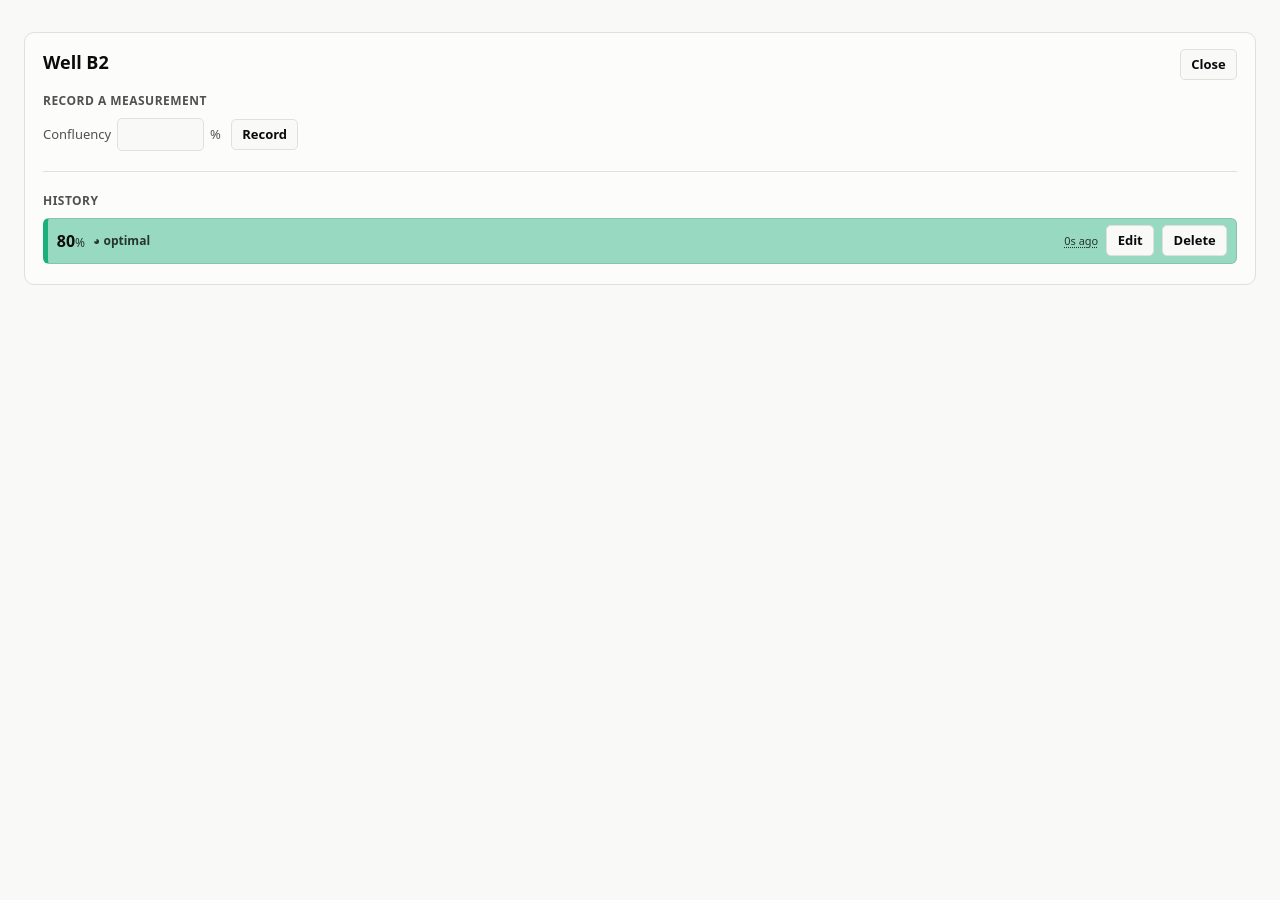
Scenario: WellPanel — deleting a measurement › falls back to the empty state when the last reading goes
Expected: the text "80" is shown, [57,230,75,252]
Click the button with aria-label "Delete reading". click: (1195, 241)
box: [1162,225,1227,256]
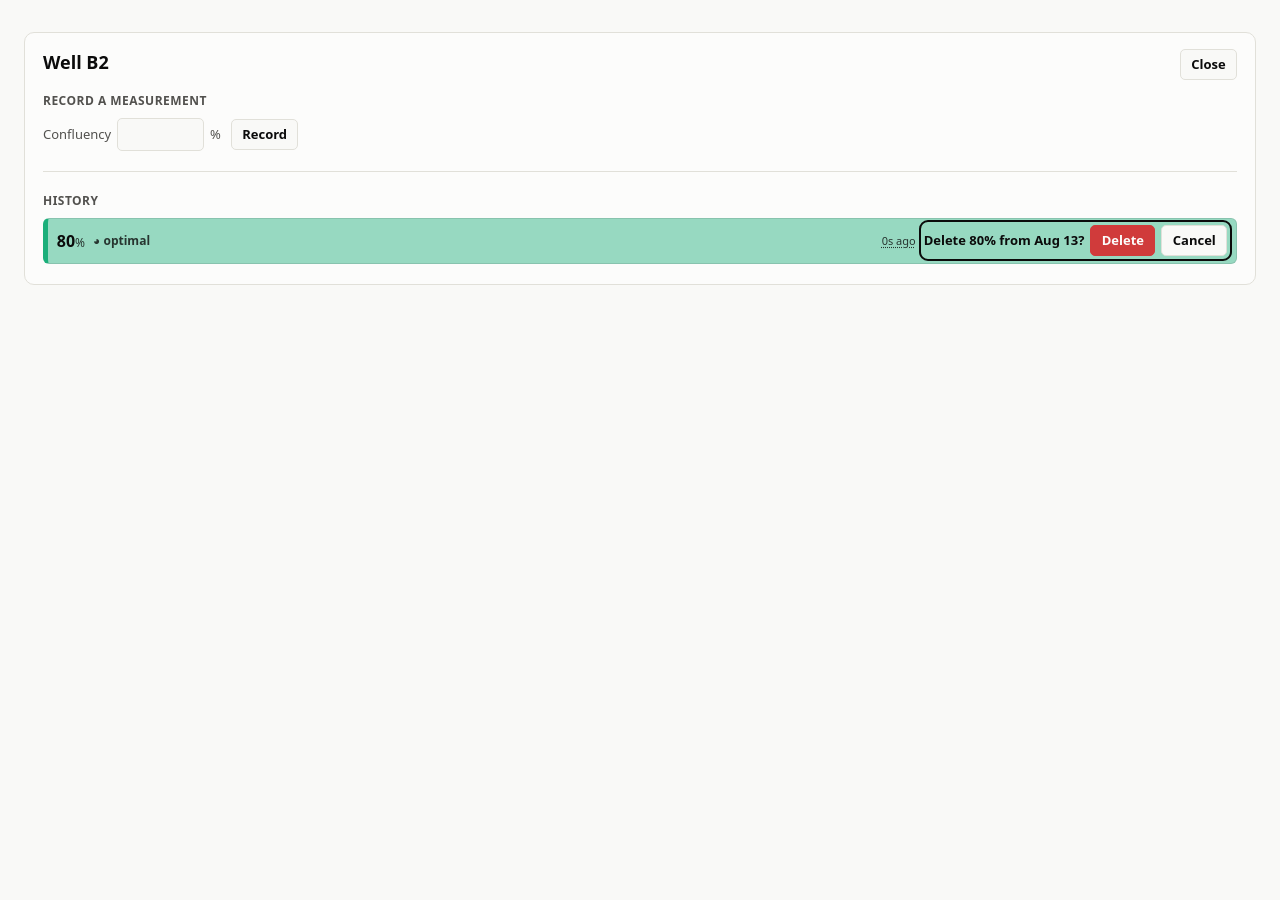
Click the button "Delete". click: (1123, 241)
box: [1090,225,1155,256]
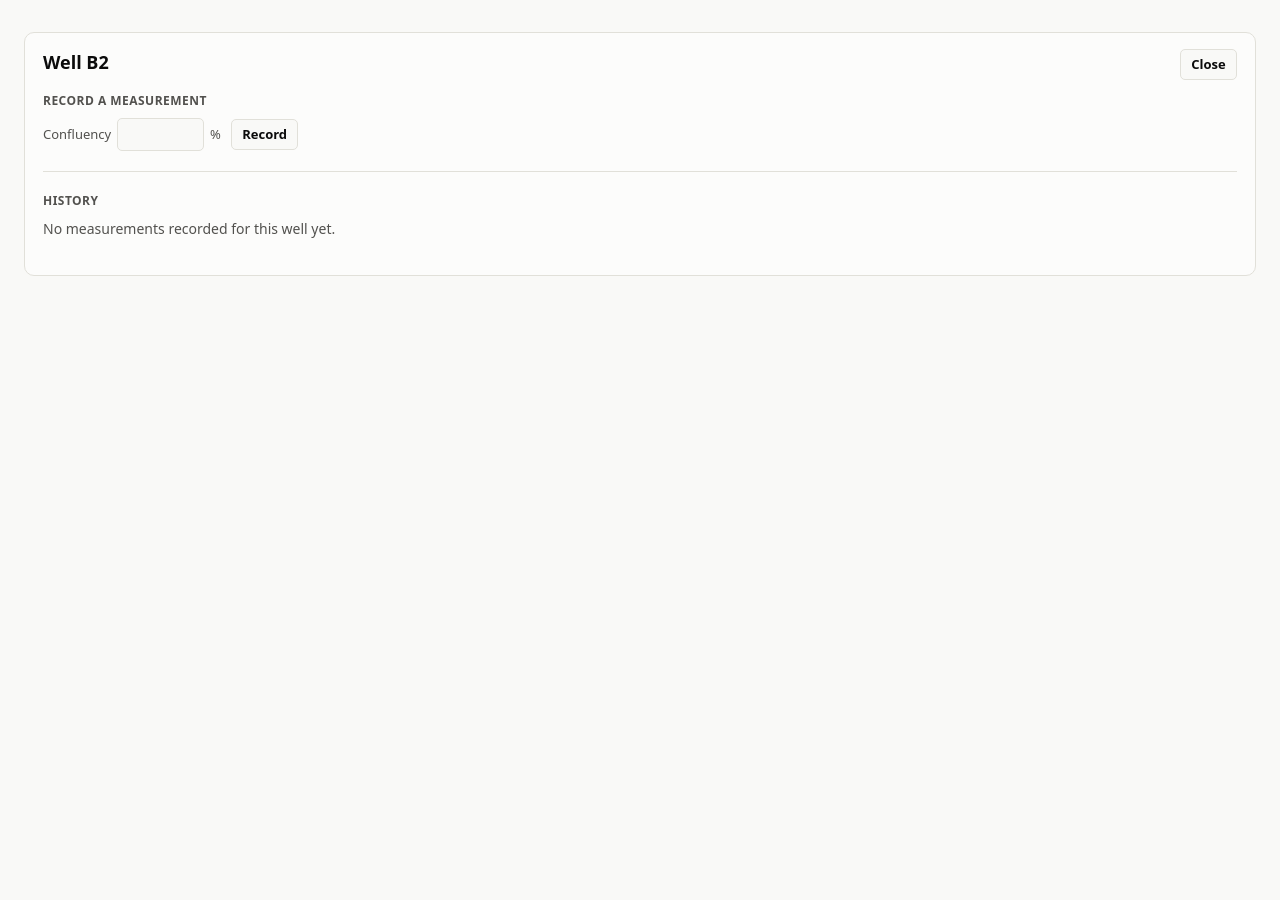
Expected: the text "No measurements recorded for this well yet." is shown, [43,219,335,238]
